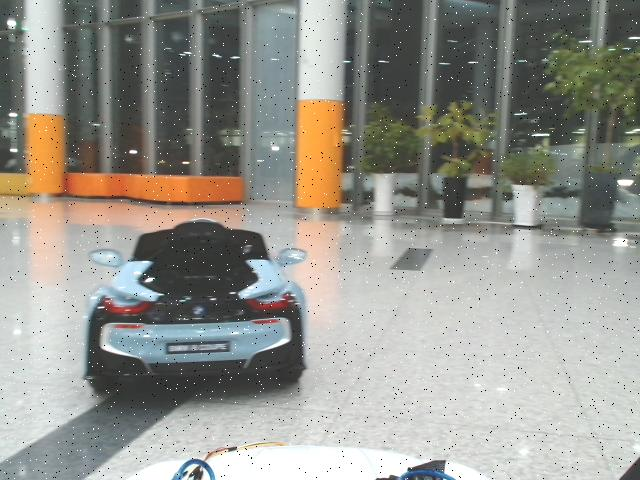car: (84, 219, 308, 394)
